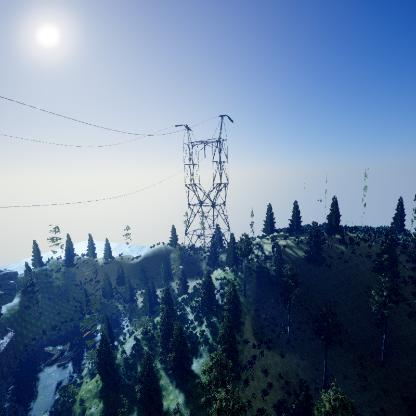tower: (173, 111, 235, 273)
